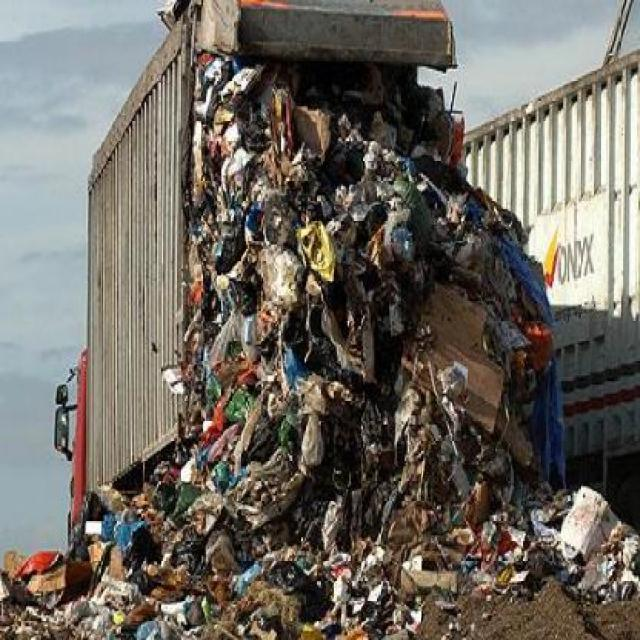garbage: (192, 79, 458, 639), (463, 192, 538, 628), (543, 439, 636, 639), (78, 474, 190, 636), (0, 555, 75, 632)
